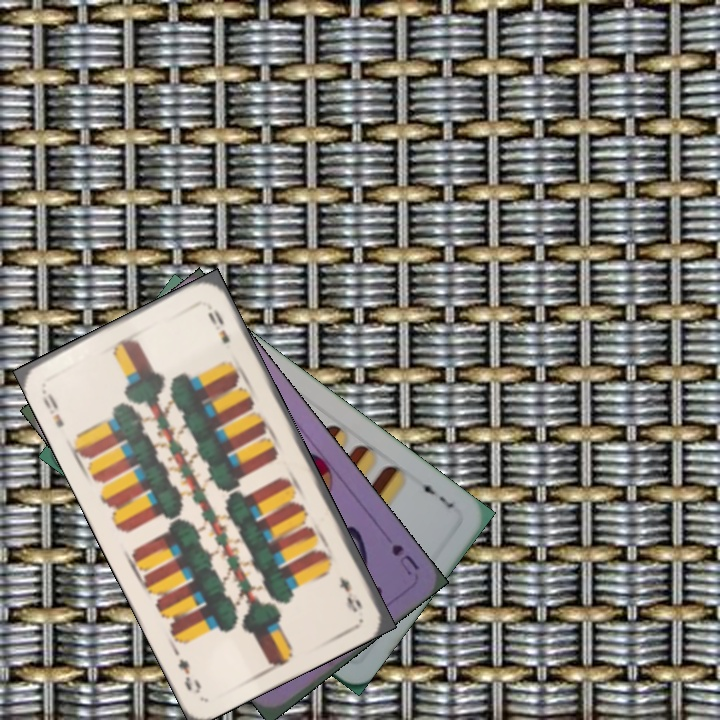E7: (414, 474, 457, 511)
E9: (37, 382, 67, 431), (334, 572, 365, 615)
SU: (387, 540, 422, 578)
